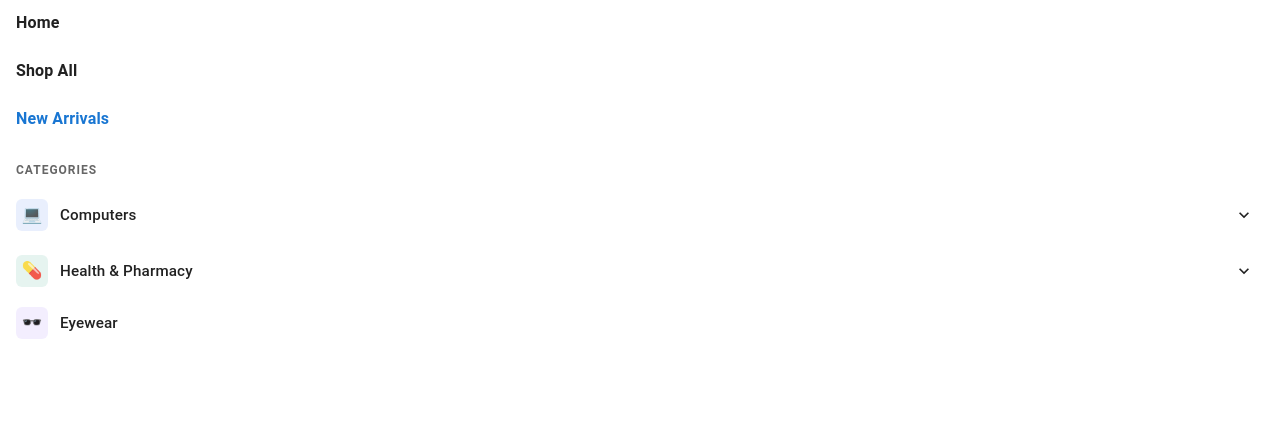
Test case: subcategories are reachable once expanded
Click the button named "Expand Computers": coordinates (1244, 215) top-left (1234, 205), bottom-right (1254, 225)
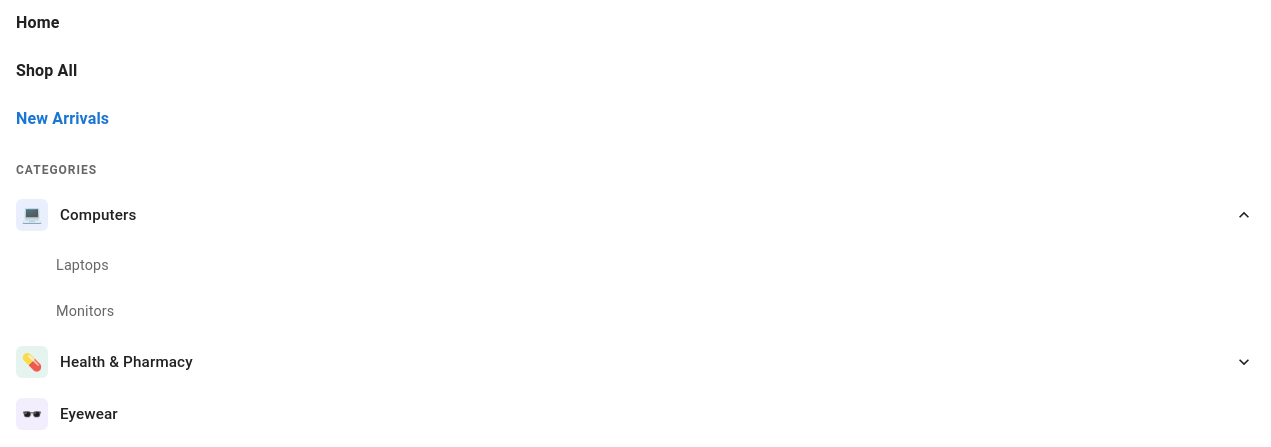
Expected: the text "Laptops" is shown, top-left (56, 257), bottom-right (109, 274)
Expected: the text "Monitors" is shown, top-left (56, 302), bottom-right (114, 320)
